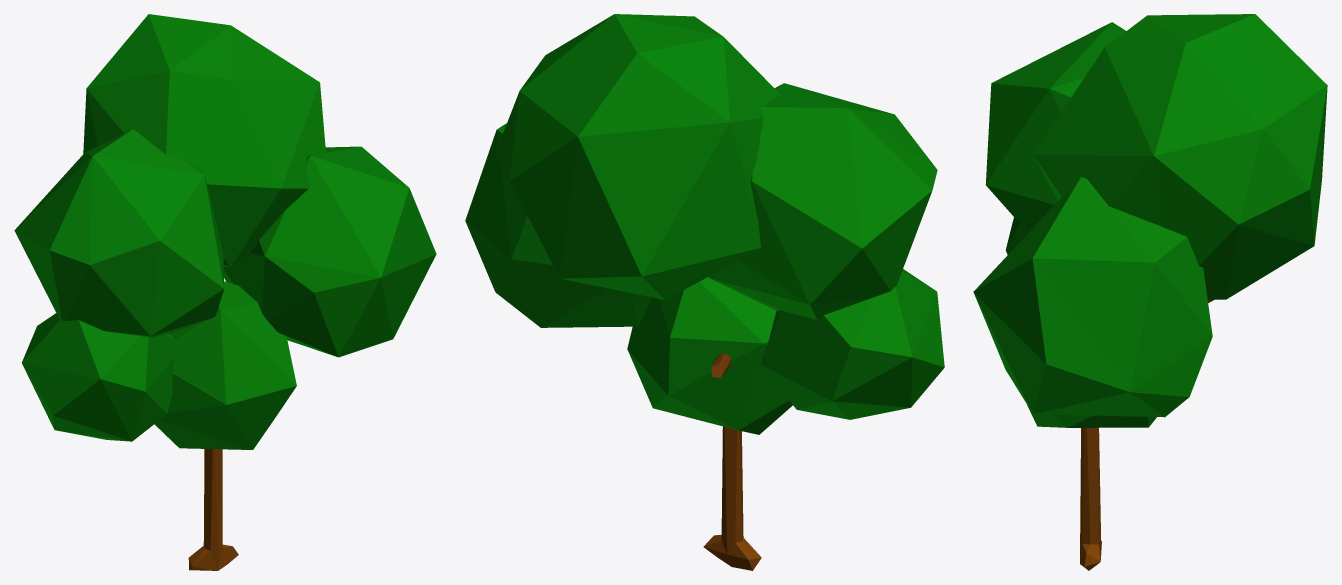
Rendered from Tree02_lowpoly.fbx.
The picture shows the model from 3 angles, left to right: view 1: azimuth 30°, elevation 25°; view 2: azimuth 150°, elevation 25°; view 3: azimuth 270°, elevation 25°; orthographic projection. The views are drawn at different scales.
Parts seen in each view (by area): view 1: TreeLeaves, TreeBranch; view 2: TreeLeaves, TreeBranch; view 3: TreeLeaves, TreeBranch.
Boxes of the visible parts, x1=… form: TreeLeaves: x1=14, y1=14, x2=436, y2=449; TreeBranch: x1=188, y1=449, x2=238, y2=570; TreeLeaves: x1=465, y1=14, x2=944, y2=434; TreeBranch: x1=703, y1=353, x2=761, y2=570; TreeLeaves: x1=973, y1=14, x2=1327, y2=427; TreeBranch: x1=1080, y1=300, x2=1213, y2=570.
Size of the model in its own units: 1036 by 1261 by 729.
